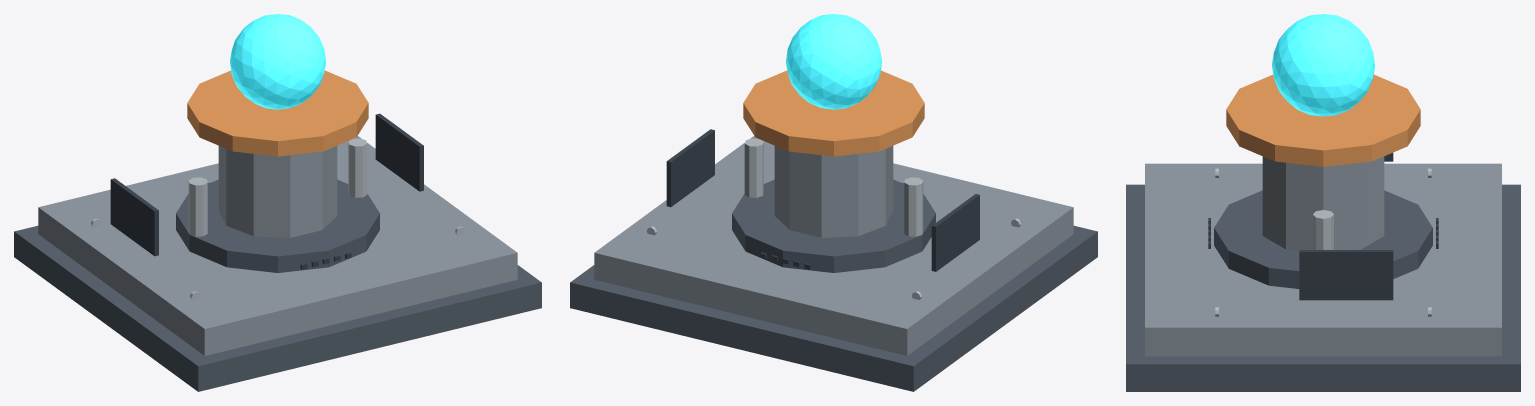
The model's file is sensor.glb.
3 views of the same model, side by side, from view 1: azimuth 30°, elevation 25°; view 2: azimuth 150°, elevation 25°; view 3: azimuth 270°, elevation 25° (orthographic). The views are drawn at different scales.
Parts seen in each view (by area): view 1: detail_001, detail_000, detail_004, detail_003, detail_002, detail_005, detail_010, detail_013, detail_006, detail_007; view 2: detail_001, detail_000, detail_004, detail_003, detail_002, detail_005, detail_013, detail_010, detail_006, detail_007; view 3: detail_001, detail_000, detail_004, detail_003, detail_005, detail_002, detail_013, detail_007.
Boxes of the visible parts, x1,y1,x2,y2 form: detail_001: (38,136,517,355); detail_000: (14,225,541,391); detail_004: (187,70,368,156); detail_003: (218,146,337,237); detail_002: (176,179,379,272); detail_005: (230,14,325,109); detail_010: (110,178,158,256); detail_013: (375,113,423,191); detail_006: (188,177,207,236); detail_007: (348,138,367,197); detail_001: (594,136,1073,355); detail_000: (570,225,1097,391); detail_004: (743,70,924,156); detail_003: (774,146,893,237); detail_002: (732,179,935,272); detail_005: (786,14,881,109); detail_013: (666,129,714,207); detail_010: (931,194,979,271); detail_006: (904,177,923,236); detail_007: (744,138,763,197); detail_001: (1145,163,1501,356); detail_000: (1126,184,1520,391); detail_004: (1226,74,1420,166); detail_003: (1262,156,1384,251); detail_005: (1272,14,1374,116); detail_002: (1214,190,1432,288); detail_013: (1299,250,1393,300); detail_007: (1313,210,1333,249).
Size of the model in its own units: 2.8 by 2.06 by 2.6.
